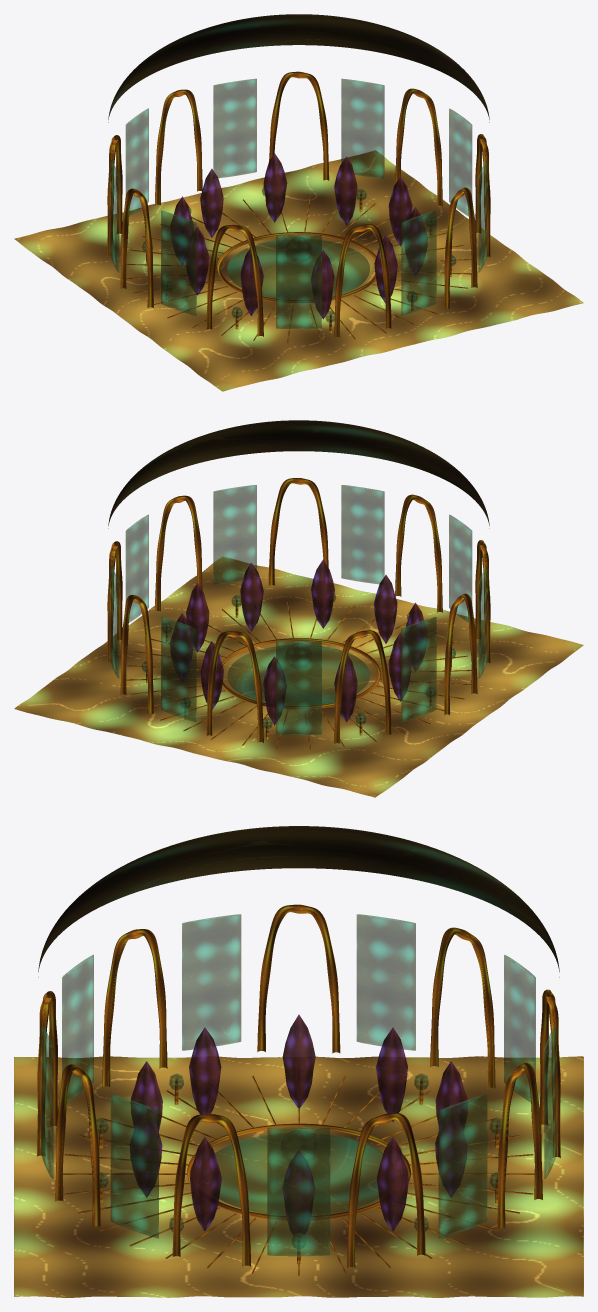
Rendered from mirror-chamber-hero-v2.glb.
The picture shows the model from 3 angles, top to bottom: view 1: azimuth 30°, elevation 25°; view 2: azimuth 150°, elevation 25°; view 3: azimuth 270°, elevation 25°; orthographic projection. The views are drawn at different scales.
Visible parts, largest first — view 1: mirror-stone-floor, mirror-dome, mirror-reflection-pool, mirror-wall-glass-6, mirror-wall-glass-14, mirror-wall-glass-16, mirror-wall-glass-8, mirror-wall-glass-4, mirror-wall-glass-12, mirror-wall-glass-0, mirror-wall-arch-7, mirror-wall-arch-5 (+21 smaller); view 2: mirror-stone-floor, mirror-dome, mirror-reflection-pool, mirror-wall-glass-12, mirror-wall-glass-4, mirror-wall-glass-2, mirror-wall-glass-14, mirror-wall-glass-10, mirror-wall-glass-0, mirror-wall-glass-6, mirror-wall-arch-13, mirror-wall-arch-11 (+21 smaller); view 3: mirror-stone-floor, mirror-dome, mirror-reflection-pool, mirror-wall-glass-0, mirror-wall-glass-10, mirror-wall-glass-8, mirror-wall-glass-16, mirror-wall-glass-2, mirror-wall-glass-6, mirror-wall-glass-12, mirror-wall-arch-9, mirror-wall-arch-1 (+21 smaller).
Boxes of the visible parts, left/top/right/bottom form: mirror-stone-floor: left=14, top=150, right=583, bottom=391; mirror-dome: left=108, top=14, right=489, bottom=122; mirror-reflection-pool: left=227, top=239, right=369, bottom=299; mirror-wall-glass-6: left=276, top=234, right=321, bottom=328; mirror-wall-glass-14: left=213, top=78, right=256, bottom=177; mirror-wall-glass-16: left=341, top=78, right=384, bottom=178; mirror-wall-glass-8: left=161, top=210, right=196, bottom=315; mirror-wall-glass-4: left=401, top=210, right=436, bottom=315; mirror-wall-glass-12: left=125, top=108, right=148, bottom=216; mirror-wall-glass-0: left=449, top=108, right=472, bottom=216; mirror-wall-arch-7: left=206, top=224, right=263, bottom=336; mirror-wall-arch-5: left=334, top=224, right=391, bottom=337; mirror-stone-floor: left=14, top=557, right=583, bottom=797; mirror-dome: left=108, top=420, right=489, bottom=528; mirror-reflection-pool: left=227, top=645, right=369, bottom=705; mirror-wall-glass-12: left=276, top=640, right=321, bottom=735; mirror-wall-glass-4: left=341, top=485, right=384, bottom=584; mirror-wall-glass-2: left=213, top=485, right=256, bottom=584; mirror-wall-glass-14: left=161, top=616, right=196, bottom=721; mirror-wall-glass-10: left=401, top=617, right=436, bottom=721; mirror-wall-glass-0: left=125, top=514, right=148, bottom=622; mirror-wall-glass-6: left=449, top=514, right=472, bottom=622; mirror-wall-arch-13: left=206, top=631, right=263, bottom=742; mirror-wall-arch-11: left=334, top=630, right=391, bottom=743; mirror-stone-floor: left=14, top=1056, right=583, bottom=1297; mirror-dome: left=38, top=826, right=559, bottom=977; mirror-reflection-pool: left=215, top=1133, right=383, bottom=1215; mirror-wall-glass-0: left=267, top=1127, right=330, bottom=1256; mirror-wall-glass-10: left=356, top=914, right=415, bottom=1050; mirror-wall-glass-8: left=182, top=914, right=241, bottom=1050; mirror-wall-glass-16: left=438, top=1094, right=487, bottom=1238; mirror-wall-glass-2: left=110, top=1094, right=158, bottom=1238; mirror-wall-glass-6: left=62, top=954, right=93, bottom=1102; mirror-wall-glass-12: left=504, top=955, right=535, bottom=1102; mirror-wall-arch-9: left=257, top=904, right=340, bottom=1053; mirror-wall-arch-1: left=172, top=1113, right=250, bottom=1266.
Size of the model in its own units: 13 by 7.69 by 13.
5 materials, 5 textured.
